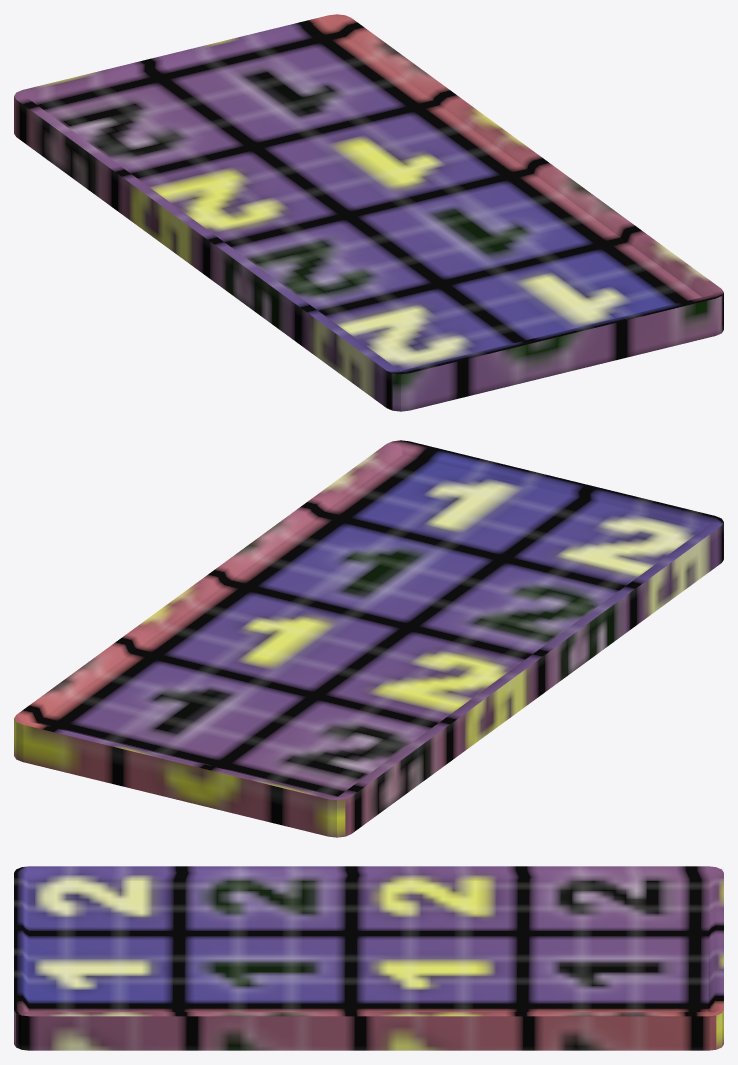
The model's file is phone.fbx.
3 renders of one model, top to bottom at view 1: azimuth 30°, elevation 25°; view 2: azimuth 150°, elevation 25°; view 3: azimuth 270°, elevation 25°, orthographic. The views are drawn at different scales.
Parts seen in each view (by area): view 1: phone; view 2: phone; view 3: phone.
Part boxes in pixels (bbox=[...]): phone: bbox=[14, 14, 723, 411]; phone: bbox=[14, 440, 723, 837]; phone: bbox=[14, 866, 723, 1050].
Bounding box in the file's own units: 0.08 × 0.00853 × 0.16.
Materials: 1 (1 with a texture image).
